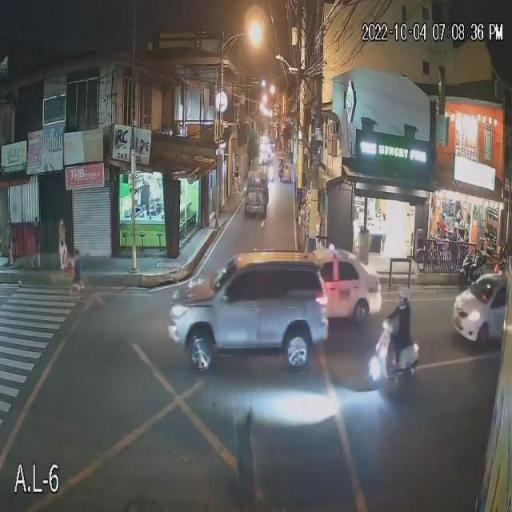helmet: (396, 284, 412, 308)
motorcycle: (366, 336, 423, 381)
rider: (392, 301, 414, 375)
